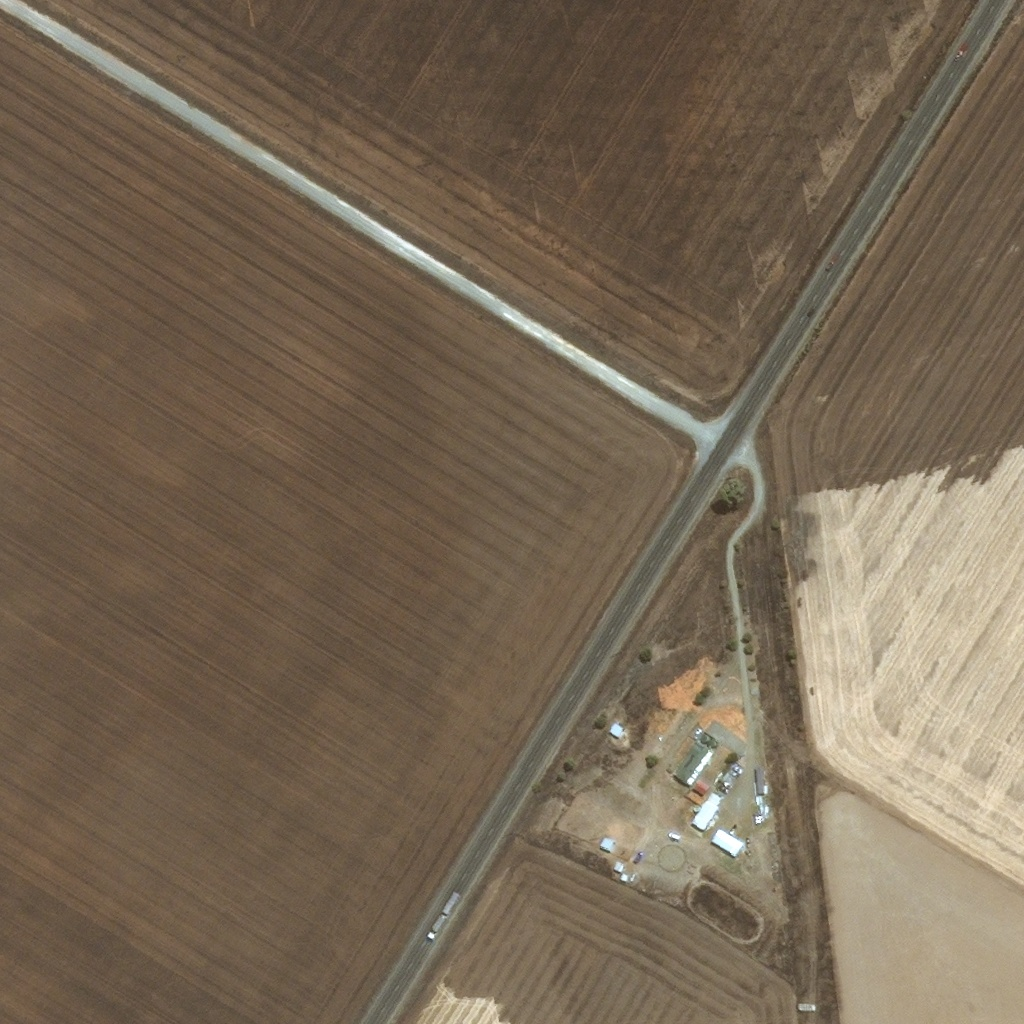0 no-damage: (669, 738, 715, 789), (691, 791, 723, 830), (710, 827, 744, 856), (606, 721, 624, 740), (599, 836, 615, 851), (755, 768, 763, 794), (613, 860, 625, 873), (692, 793, 703, 804), (618, 872, 628, 882), (701, 734, 709, 742), (709, 738, 717, 746), (753, 816, 760, 824)
